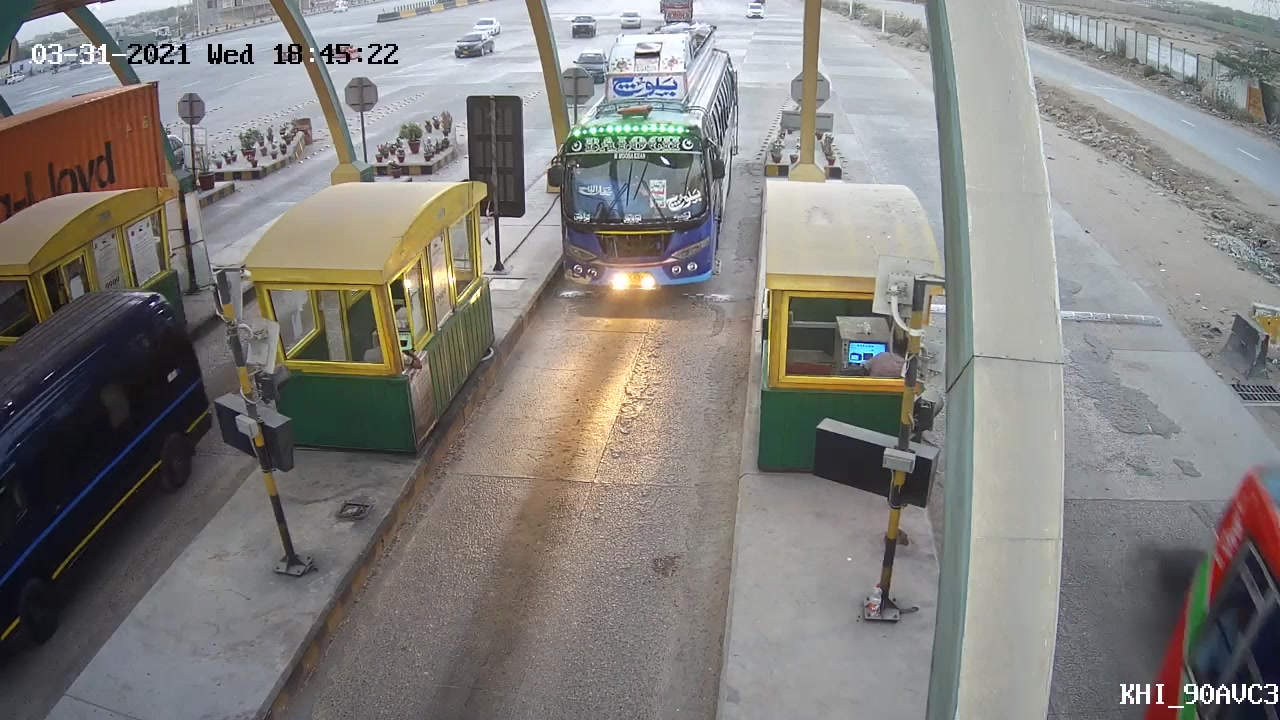F4: (544, 15, 743, 302)
